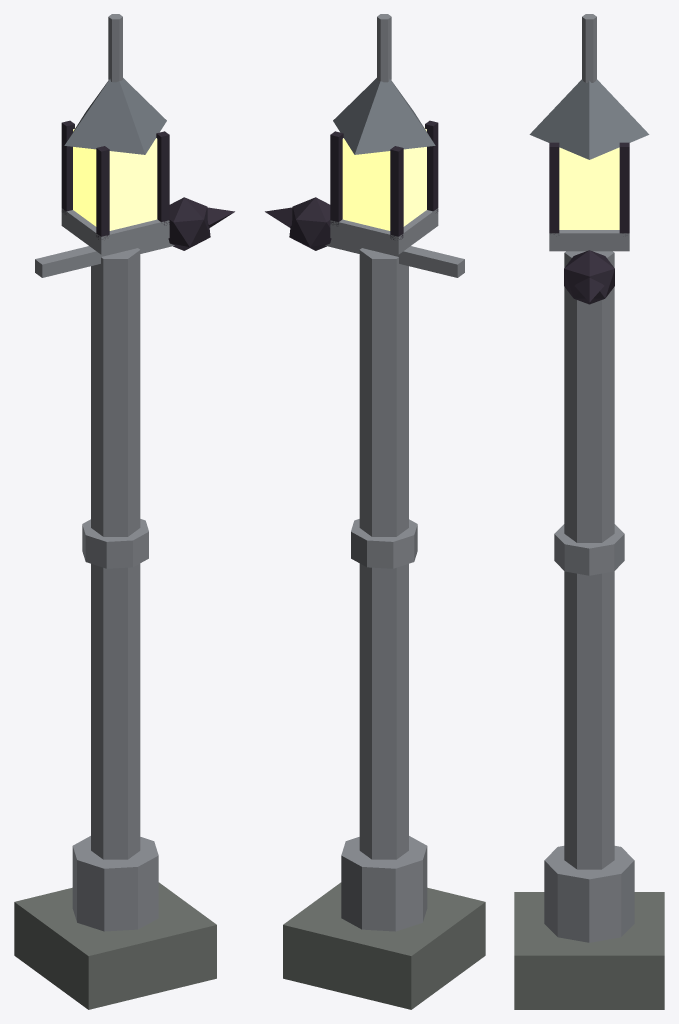
The model's file is streetlamp.glb.
The picture shows the model from 3 angles, left to right: view 1: azimuth 30°, elevation 25°; view 2: azimuth 150°, elevation 25°; view 3: azimuth 270°, elevation 25°; orthographic projection.
Parts seen in each view (by area): view 1: streetlamp; view 2: streetlamp; view 3: streetlamp.
Boxes of the visible parts, x1,y1,x2,y2 form: streetlamp: [14, 14, 234, 1009]; streetlamp: [265, 14, 485, 1009]; streetlamp: [514, 14, 664, 1009].
Size of the model in its own units: 0.46 by 2.12 by 0.3.
